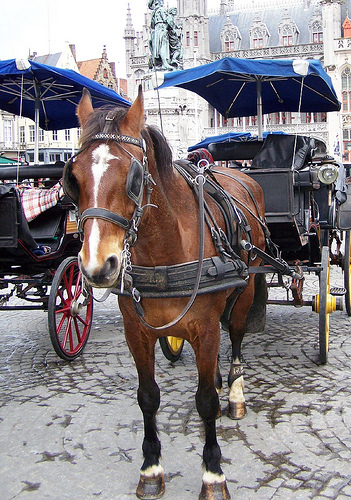horse: (61, 86, 281, 498)
